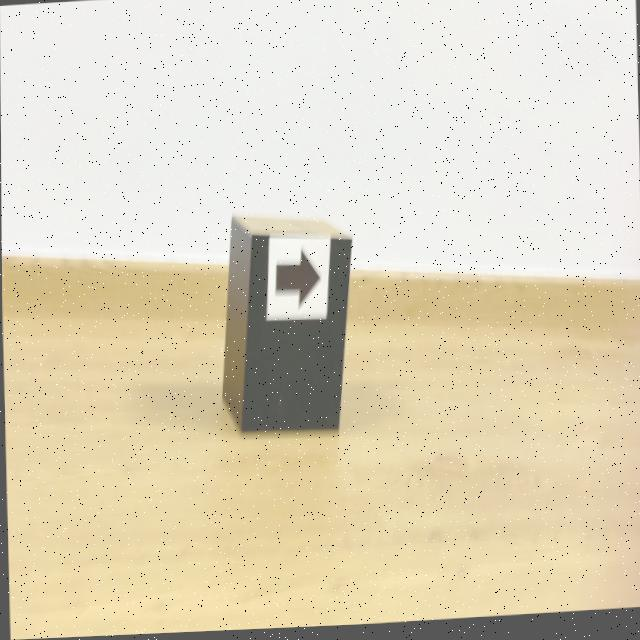RIGHT: (275, 253, 319, 310)
